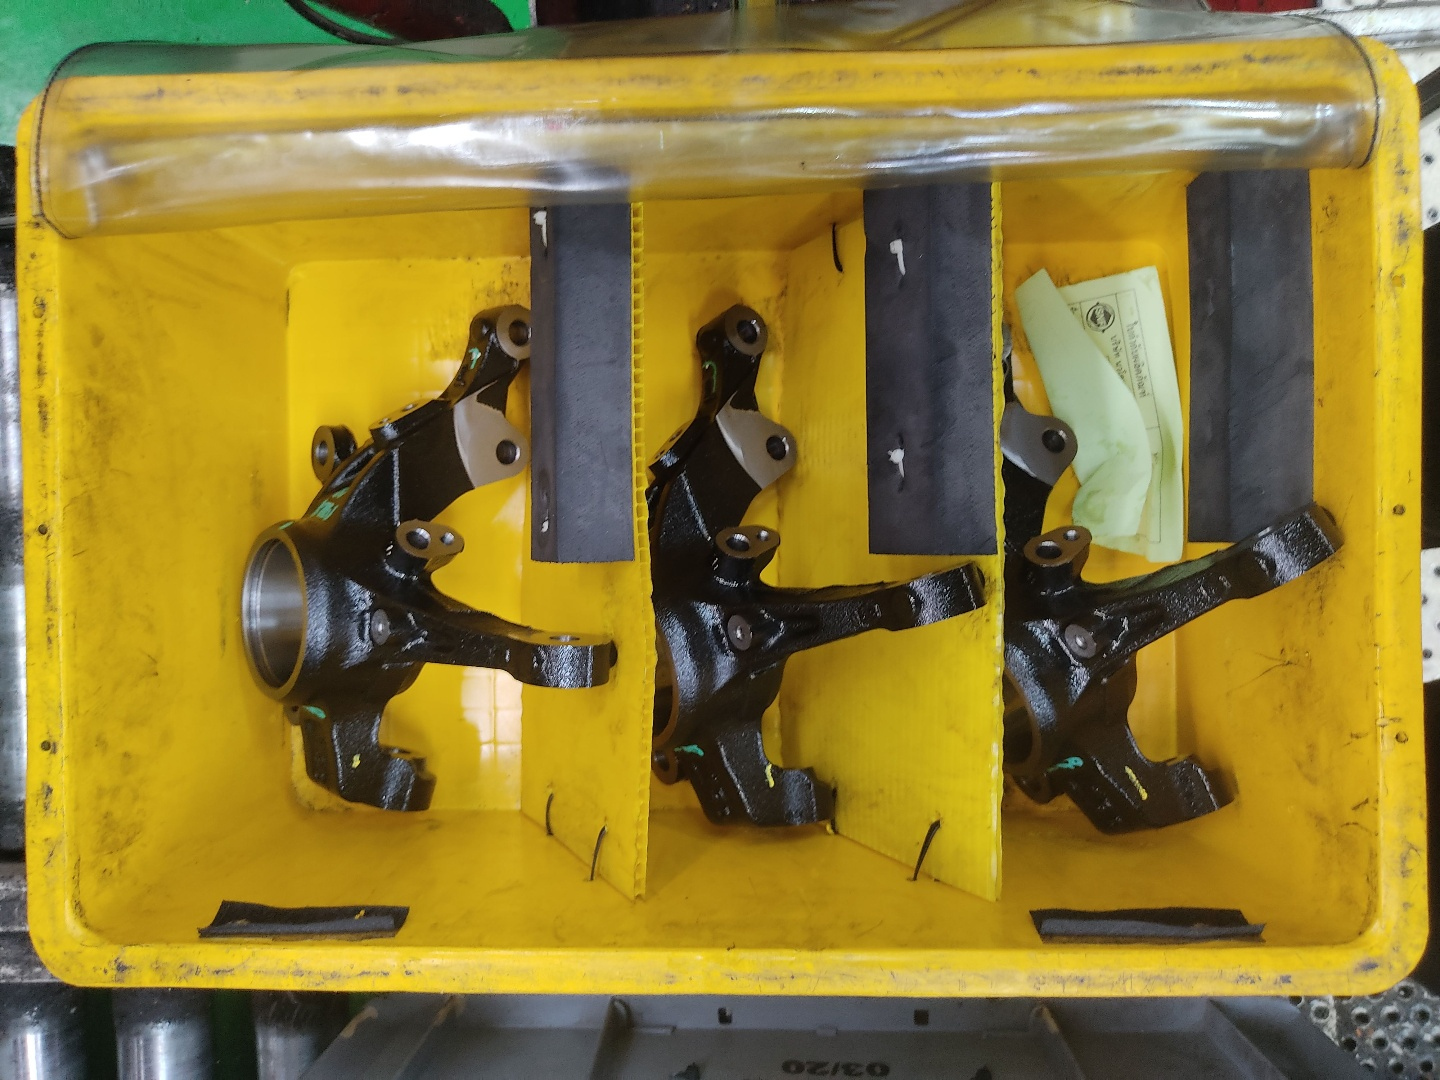abs-lh: (232, 295, 621, 827), (986, 299, 1353, 849), (636, 295, 986, 838)
